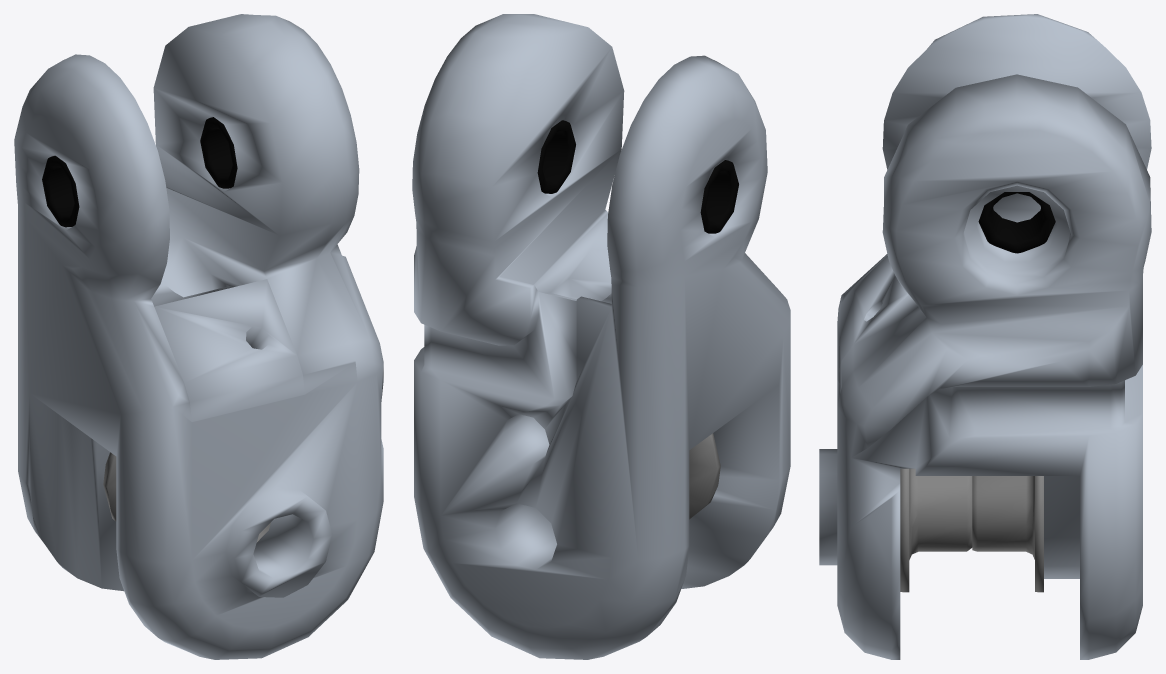
Rendered from thumbpart_l.obj.
3 renders of one model, left to right at view 1: azimuth 30°, elevation 25°; view 2: azimuth 150°, elevation 25°; view 3: azimuth 270°, elevation 25°, orthographic. The views are drawn at different scales.
Size of the model in its own units: 0.017 by 0.036 by 0.0185.
